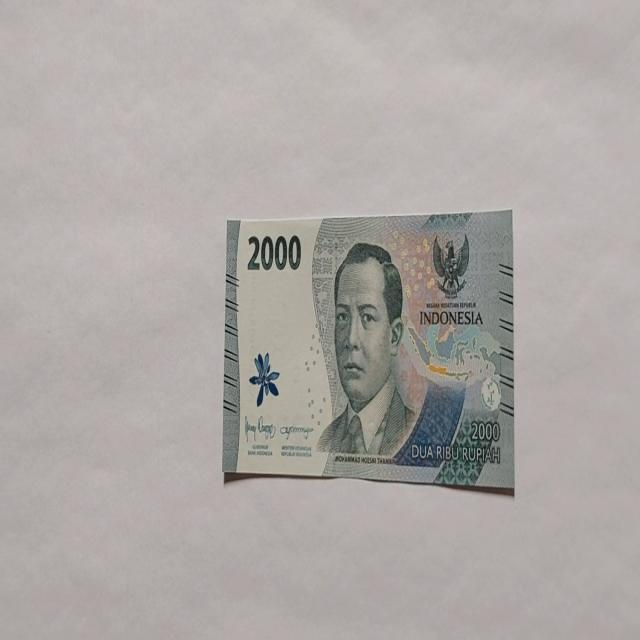dua ribu rupiah: (223, 210, 514, 489), (316, 240, 418, 460)
